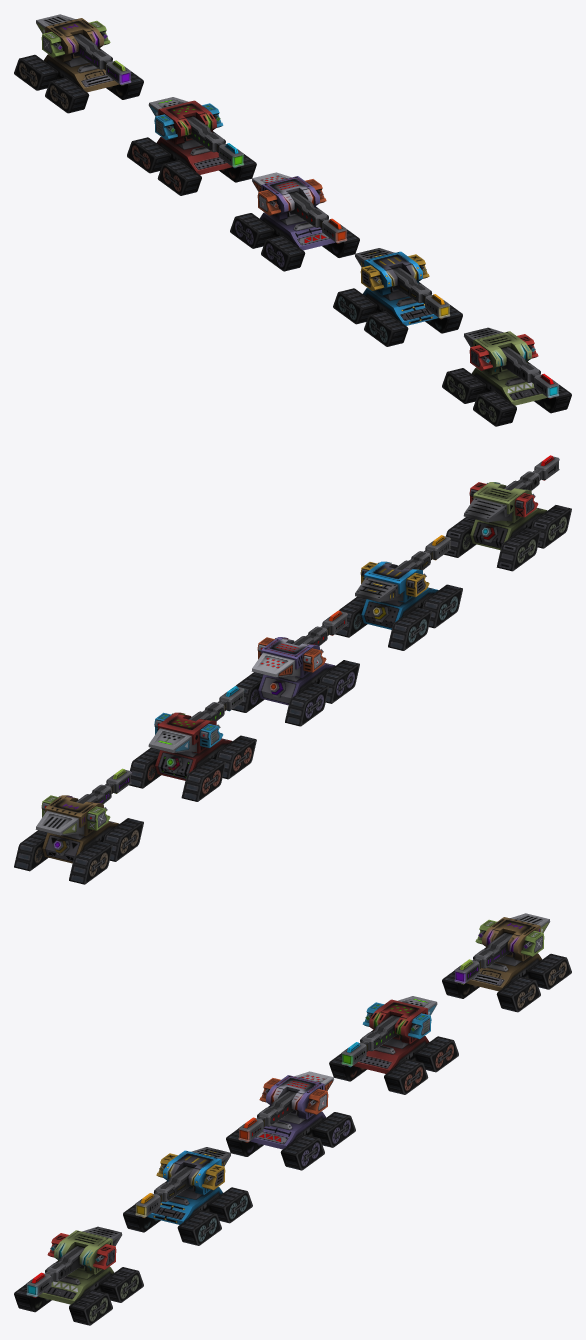
File: SciFi Ultra Tank 5.FBX
3 views of the same model, one above another, from view 1: azimuth 30°, elevation 25°; view 2: azimuth 150°, elevation 25°; view 3: azimuth 330°, elevation 25° (orthographic).
Visible parts, largest first — view 1: SciFi Ultra Tank 5.5, SciFi Ultra Tank 5, SciFi Ultra Tank 5.3, SciFi Ultra Tank 5.2, SciFi Ultra Tank 5.4, SciFi Ultra Tank 5.4_turret (×2), SciFi Ultra Tank 5.3_turret (×2), SciFi Ultra Tank 5.5_turret (×2), SciFi Ultra Tank 5.2_turret (×2), SciFi Ultra Tank 5_turret (×2); view 2: SciFi Ultra Tank 5.5, SciFi Ultra Tank 5.4, SciFi Ultra Tank 5, SciFi Ultra Tank 5.2, SciFi Ultra Tank 5.3, SciFi Ultra Tank 5.2_turret (×2), SciFi Ultra Tank 5.4_turret (×2), SciFi Ultra Tank 5_turret (×2), SciFi Ultra Tank 5.3_turret (×2), SciFi Ultra Tank 5.5_turret (×2); view 3: SciFi Ultra Tank 5, SciFi Ultra Tank 5.5, SciFi Ultra Tank 5.3, SciFi Ultra Tank 5.4, SciFi Ultra Tank 5.2, SciFi Ultra Tank 5.2_turret (×2), SciFi Ultra Tank 5.3_turret (×2), SciFi Ultra Tank 5.5_turret (×2), SciFi Ultra Tank 5_turret (×2), SciFi Ultra Tank 5.4_turret (×2).
Part boxes in pixels (<box>): SciFi Ultra Tank 5.5: <box>14,48,143,113</box>; SciFi Ultra Tank 5: <box>442,362,571,426</box>; SciFi Ultra Tank 5.3: <box>230,206,359,271</box>; SciFi Ultra Tank 5.2: <box>333,282,462,346</box>; SciFi Ultra Tank 5.4: <box>127,131,256,195</box>; SciFi Ultra Tank 5.4_turret (×2): <box>148,97,244,168</box>; SciFi Ultra Tank 5.3_turret (×2): <box>252,172,347,243</box>; SciFi Ultra Tank 5.5_turret (×2): <box>36,14,131,85</box>; SciFi Ultra Tank 5.2_turret (×2): <box>355,248,450,319</box>; SciFi Ultra Tank 5_turret (×2): <box>464,327,559,398</box>; SciFi Ultra Tank 5.5: <box>14,818,143,884</box>; SciFi Ultra Tank 5.4: <box>129,735,256,801</box>; SciFi Ultra Tank 5: <box>444,505,571,571</box>; SciFi Ultra Tank 5.2: <box>335,584,462,650</box>; SciFi Ultra Tank 5.3: <box>232,660,359,726</box>; SciFi Ultra Tank 5.2_turret (×2): <box>355,535,450,602</box>; SciFi Ultra Tank 5.4_turret (×2): <box>148,686,244,753</box>; SciFi Ultra Tank 5_turret (×2): <box>463,455,559,522</box>; SciFi Ultra Tank 5.3_turret (×2): <box>251,610,347,677</box>; SciFi Ultra Tank 5.5_turret (×2): <box>35,768,131,836</box>; SciFi Ultra Tank 5: <box>14,1261,143,1325</box>; SciFi Ultra Tank 5.5: <box>442,947,571,1012</box>; SciFi Ultra Tank 5.3: <box>226,1105,355,1170</box>; SciFi Ultra Tank 5.4: <box>329,1030,458,1094</box>; SciFi Ultra Tank 5.2: <box>123,1181,252,1245</box>; SciFi Ultra Tank 5.2_turret (×2): <box>135,1147,230,1217</box>; SciFi Ultra Tank 5.3_turret (×2): <box>238,1071,334,1142</box>; SciFi Ultra Tank 5.5_turret (×2): <box>454,913,550,984</box>; SciFi Ultra Tank 5_turret (×2): <box>26,1226,122,1297</box>; SciFi Ultra Tank 5.4_turret (×2): <box>341,996,437,1067</box>.
Bounding box in the file's own units: 247 × 182 × 3079.
5 materials, 5 textured.
